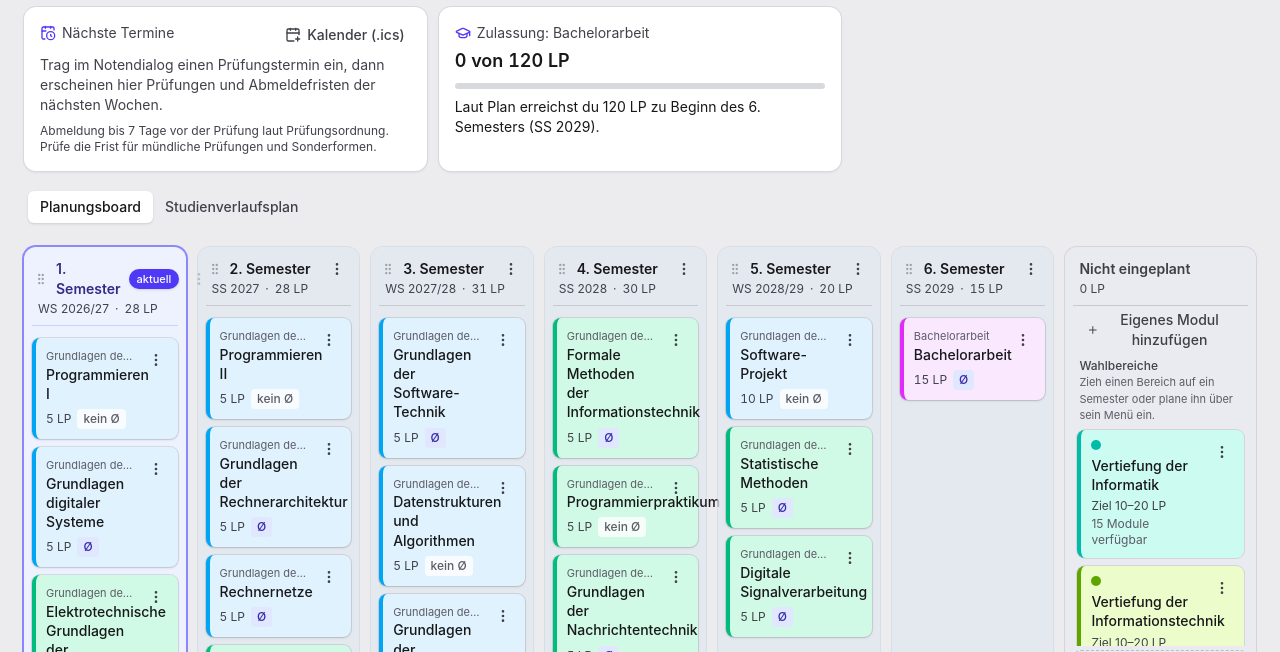
Test: modules just for learning › stops counting a module from its card menu and lets it count again
(page scrolled)
Expected: the element "1. Semester" shows "28 LP", [124,301,158,316]
Click the button named "Aktionen für Programmieren I": (156, 360) [140,344,172,376]
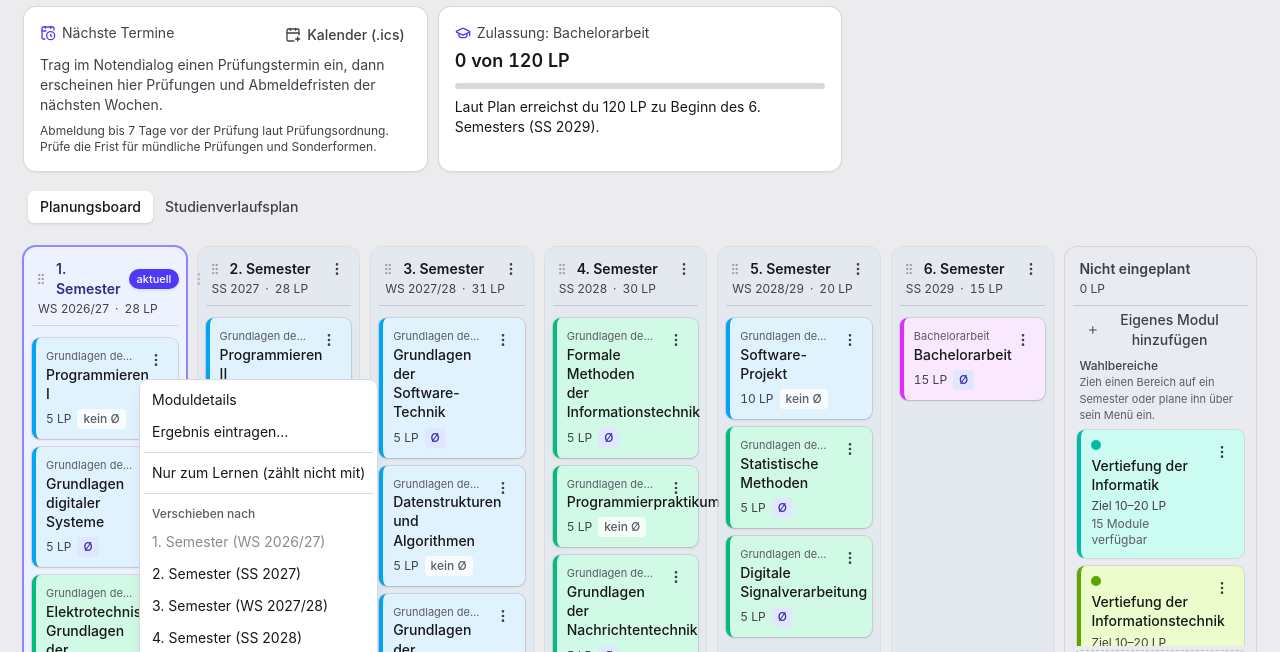
Click the menu item "Nur zum Lernen (zählt nicht mit)": (259, 472) [152,464,365,481]
(page scrolled)
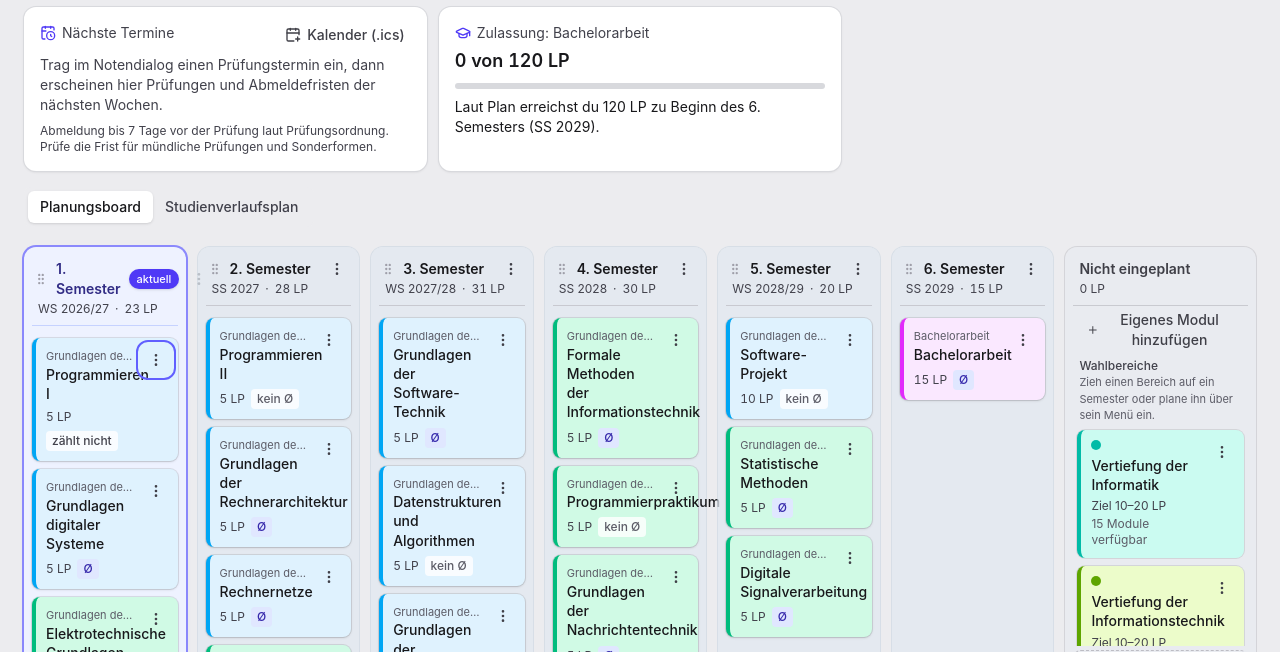
Expected: the list item "Programmieren I" shows "zählt nicht", [52,433,112,448]
Click the button named "Aktionen für Programmieren I": (156, 360) [140,344,172,376]
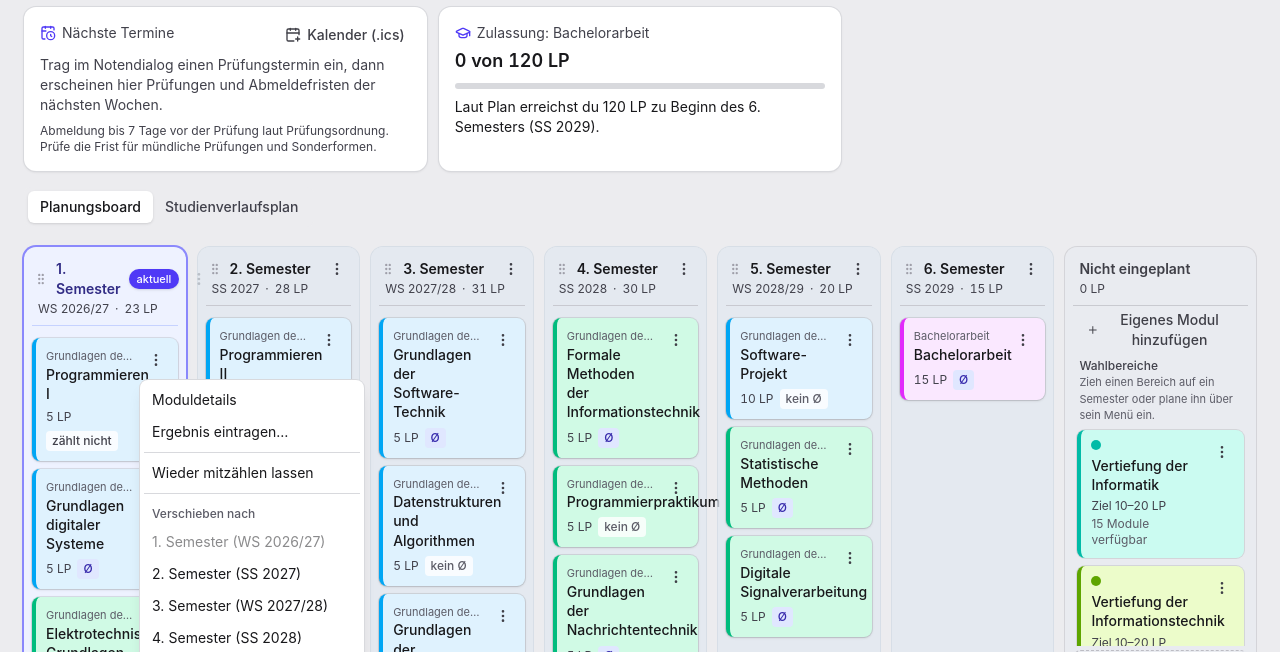
Click the menu item "Wieder mitzählen lassen": (233, 472) [152,464,314,481]
(page scrolled)
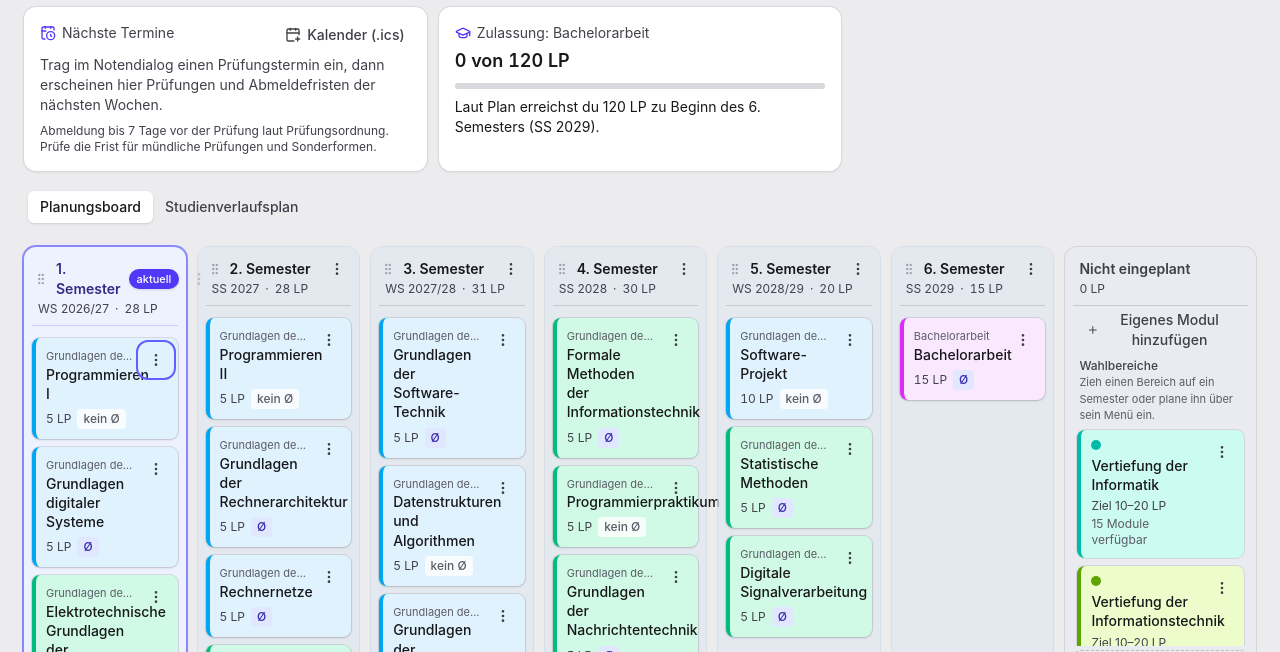
Expected: the text "28 LP" below "1. Semester" is shown, [124,301,158,316]
